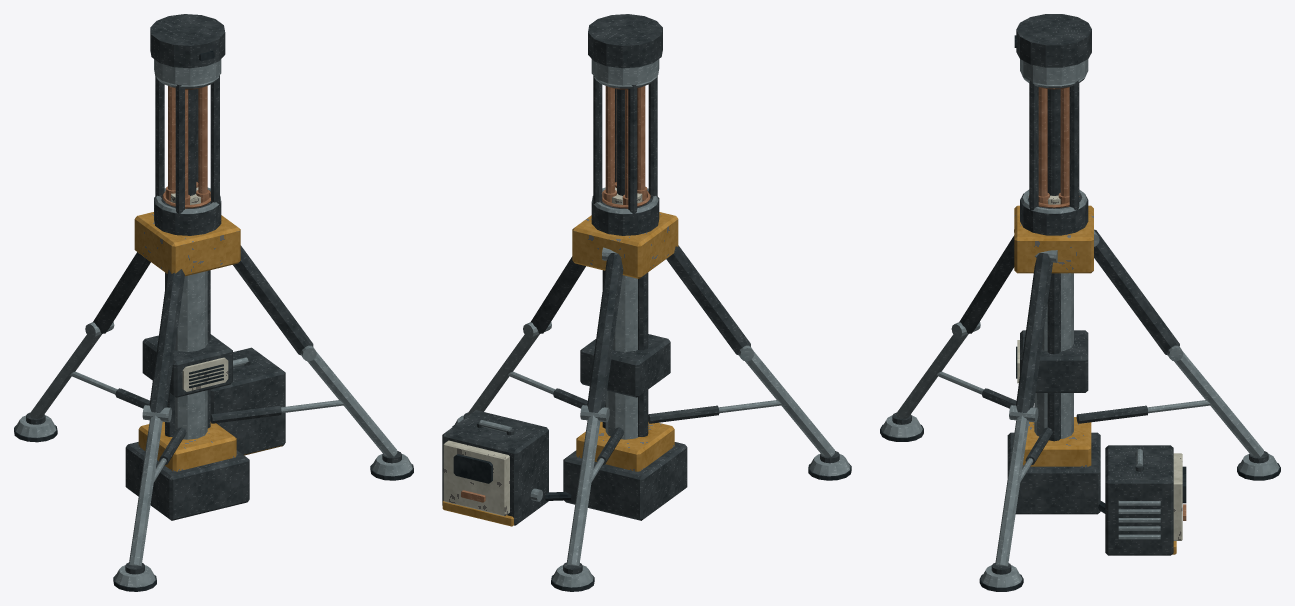
Rendered from resonance_tower_disabled.glb.
The picture shows the model from 3 angles, left to right: view 1: azimuth 30°, elevation 25°; view 2: azimuth 150°, elevation 25°; view 3: azimuth 270°, elevation 25°; orthographic projection.
Visible parts, largest first — view 1: resonance_tower_disabled; view 2: resonance_tower_disabled; view 3: resonance_tower_disabled.
Part boxes in pixels (x1=…): resonance_tower_disabled: x1=14, y1=14, x2=413, y2=591; resonance_tower_disabled: x1=442, y1=14, x2=851, y2=591; resonance_tower_disabled: x1=880, y1=14, x2=1280, y2=591.
Size of the model in its own units: 2.09 by 2.71 by 2.11.
6 materials, 6 textured.
